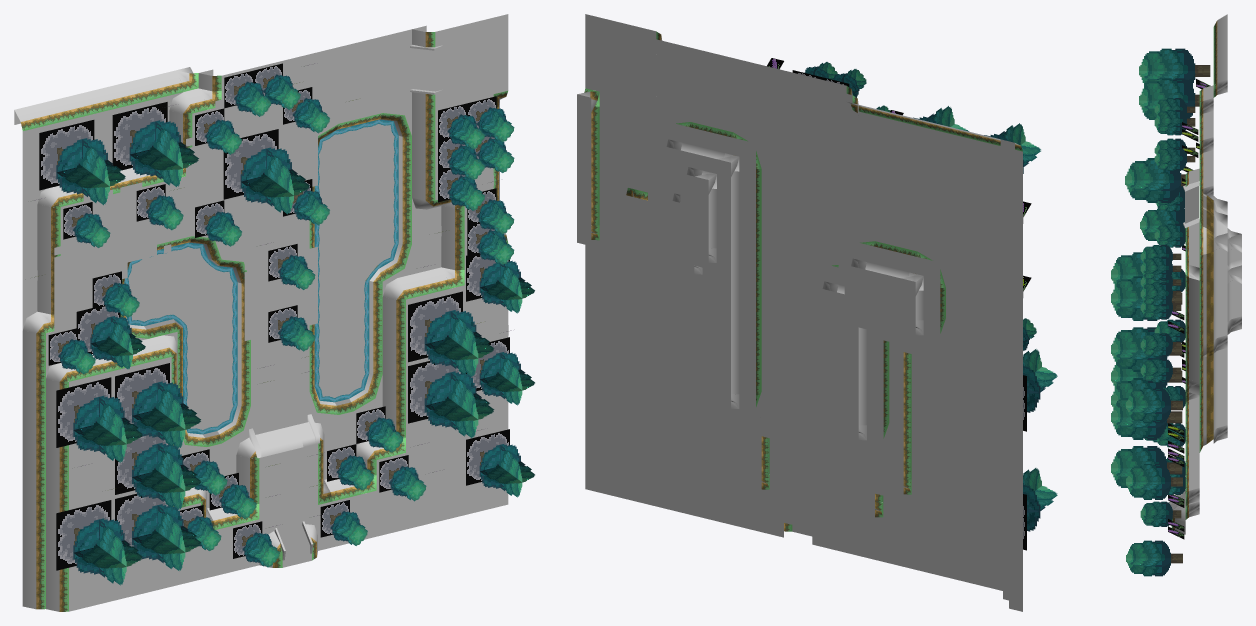
The model's file is Asteria_28_37.obj.
3 views of the same model, side by side, from view 1: azimuth 30°, elevation 25°; view 2: azimuth 150°, elevation 25°; view 3: azimuth 270°, elevation 25° (orthographic). The views are drawn at different scales.
Visible parts, largest first — view 1: map; view 2: map; view 3: map.
Part boxes in pixels (x1,y1,x2,y2): map: (14,14,534,611); map: (577,14,1057,611); map: (1111,14,1241,576).
Size of the model in its own units: 32.02 by 32 by 9.94.
